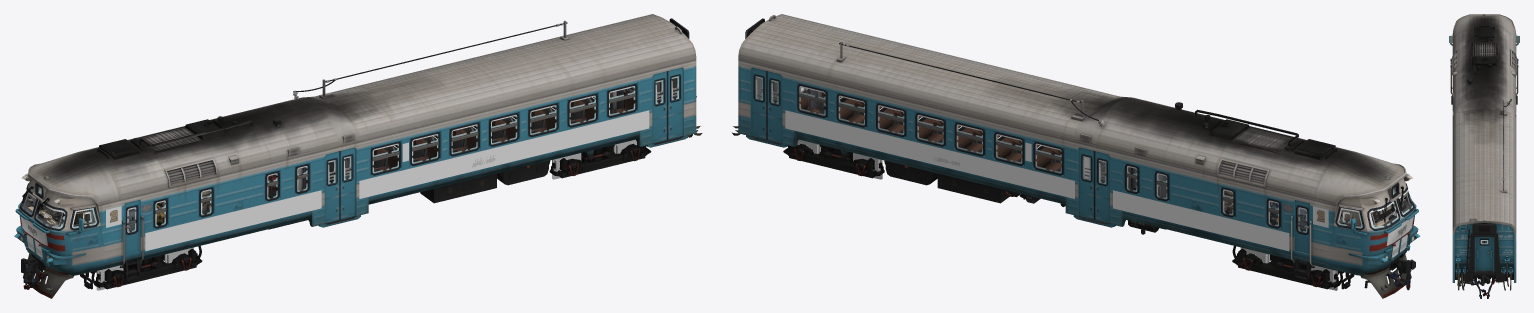
File: mvp_ir_dr1a_motorhead_reversed.obj
3 renders of one model, left to right at view 1: azimuth 30°, elevation 25°; view 2: azimuth 150°, elevation 25°; view 3: azimuth 270°, elevation 25°, orthographic. The views are drawn at different scales.
Parts seen in each view (by area): view 1: FRAME_mvp_dr1a_motorhead, INTERIOR_1_LCG_IL_mvp_dr1a_motorhead, BOGEY_FRONT_mvp_dr1a_motorhead, BOGEY_REAR_mvp_dr1a_motorhead, DOOR_6_mvp_dr1a_motorhead, DOOR_4_mvp_dr1a_motorhead, DOOR_4_EXTERNAL_CG_DL_NOINTERACT, DOOR_6_EXTERNAL_CG_DL_NOINTERACT, DIESELROOM_1_INTERIOR_LCG_EL_mvp_dr1a_motorhead, CAB_1_INTERIOR_LCG_CL_mvp_dr1a_motorhead, DOOR_1_TOGGLE_CG_EDL_EXTERNAL_mvp_dr1a_motorhead; view 2: FRAME_mvp_dr1a_motorhead, INTERIOR_1_LCG_IL_mvp_dr1a_motorhead, BOGEY_FRONT_mvp_dr1a_motorhead, BOGEY_REAR_mvp_dr1a_motorhead, DOOR_5_EXTERNAL_CG_DR_NOINTERACT, DOOR_7_mvp_dr1a_motorhead, DOOR_5_mvp_dr1a_motorhead, DOOR_7_EXTERNAL_CG_NOINTERACT, CAB_1_INTERIOR_LCG_CL_mvp_dr1a_motorhead, DIESELROOM_1_INTERIOR_LCG_EL_mvp_dr1a_motorhead, DOOR_2_TOGGLE_CG_EDR_EXTERNAL_mvp_dr1a_motorhead; view 3: FRAME_mvp_dr1a_motorhead, DOOR_3_TOGGLE_CG_CDR_CONNECTING_mvp_dr1a_motorhead, COUPLED_REAR_1_HIDE_INVERT_mvp_dr1a, COUPLED_REAR_2_HIDE_mvp_dr1a.
Part boxes in pixels (x1=…): FRAME_mvp_dr1a_motorhead: x1=14, y1=14, x2=696, y2=298; INTERIOR_1_LCG_IL_mvp_dr1a_motorhead: x1=297, y1=78, x2=678, y2=223; BOGEY_FRONT_mvp_dr1a_motorhead: x1=90, y1=246, x2=202, y2=289; BOGEY_REAR_mvp_dr1a_motorhead: x1=549, y1=143, x2=651, y2=178; DOOR_6_mvp_dr1a_motorhead: x1=667, y1=67, x2=683, y2=139; DOOR_4_mvp_dr1a_motorhead: x1=340, y1=147, x2=355, y2=219; DOOR_4_EXTERNAL_CG_DL_NOINTERACT: x1=324, y1=151, x2=339, y2=223; DOOR_6_EXTERNAL_CG_DL_NOINTERACT: x1=652, y1=71, x2=667, y2=143; DIESELROOM_1_INTERIOR_LCG_EL_mvp_dr1a_motorhead: x1=127, y1=173, x2=278, y2=231; CAB_1_INTERIOR_LCG_CL_mvp_dr1a_motorhead: x1=21, y1=194, x2=94, y2=227; DOOR_1_TOGGLE_CG_EDL_EXTERNAL_mvp_dr1a_motorhead: x1=124, y1=200, x2=139, y2=253; FRAME_mvp_dr1a_motorhead: x1=738, y1=14, x2=1420, y2=298; INTERIOR_1_LCG_IL_mvp_dr1a_motorhead: x1=755, y1=77, x2=1137, y2=223; BOGEY_FRONT_mvp_dr1a_motorhead: x1=1232, y1=246, x2=1343, y2=289; BOGEY_REAR_mvp_dr1a_motorhead: x1=783, y1=142, x2=884, y2=178; DOOR_5_EXTERNAL_CG_DR_NOINTERACT: x1=1078, y1=147, x2=1094, y2=219; DOOR_7_mvp_dr1a_motorhead: x1=767, y1=71, x2=782, y2=143; DOOR_5_mvp_dr1a_motorhead: x1=1094, y1=151, x2=1109, y2=223; DOOR_7_EXTERNAL_CG_NOINTERACT: x1=751, y1=67, x2=766, y2=139; CAB_1_INTERIOR_LCG_CL_mvp_dr1a_motorhead: x1=1339, y1=193, x2=1413, y2=227; DIESELROOM_1_INTERIOR_LCG_EL_mvp_dr1a_motorhead: x1=1156, y1=174, x2=1307, y2=231; DOOR_2_TOGGLE_CG_EDR_EXTERNAL_mvp_dr1a_motorhead: x1=1294, y1=200, x2=1309, y2=253; FRAME_mvp_dr1a_motorhead: x1=1449, y1=14, x2=1519, y2=285; DOOR_3_TOGGLE_CG_CDR_CONNECTING_mvp_dr1a_motorhead: x1=1477, y1=237, x2=1491, y2=270; COUPLED_REAR_1_HIDE_INVERT_mvp_dr1a: x1=1455, y1=256, x2=1513, y2=296; COUPLED_REAR_2_HIDE_mvp_dr1a: x1=1455, y1=255, x2=1512, y2=298.
Bounding box in the file's own units: 26.26 × 4.99 × 3.6.
